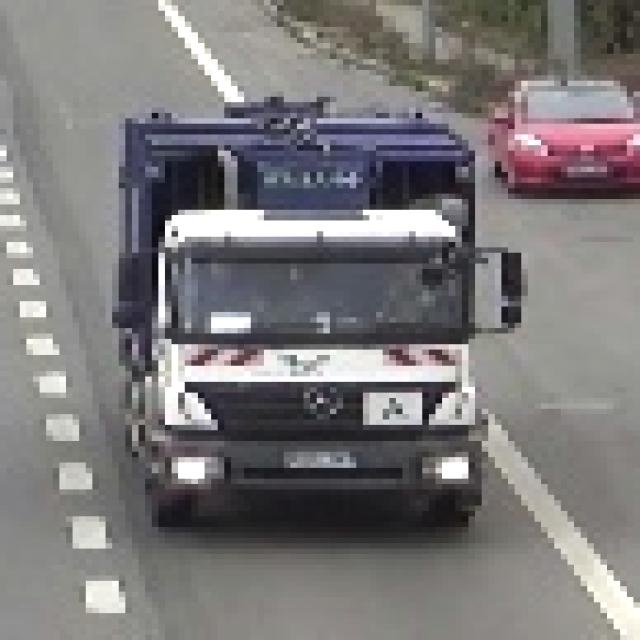truck: (107, 103, 522, 528)
